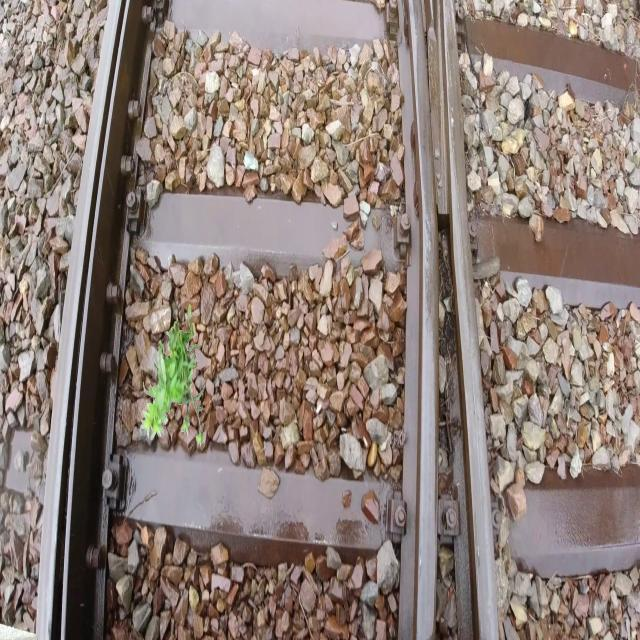Plant: (140, 304, 205, 448)
